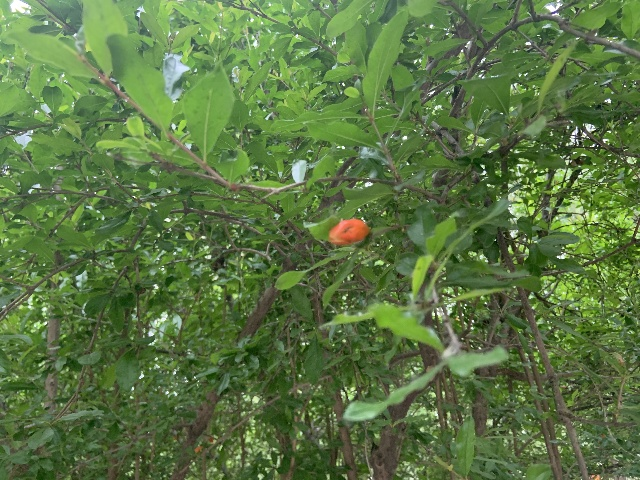bud: (329, 218, 370, 245)
